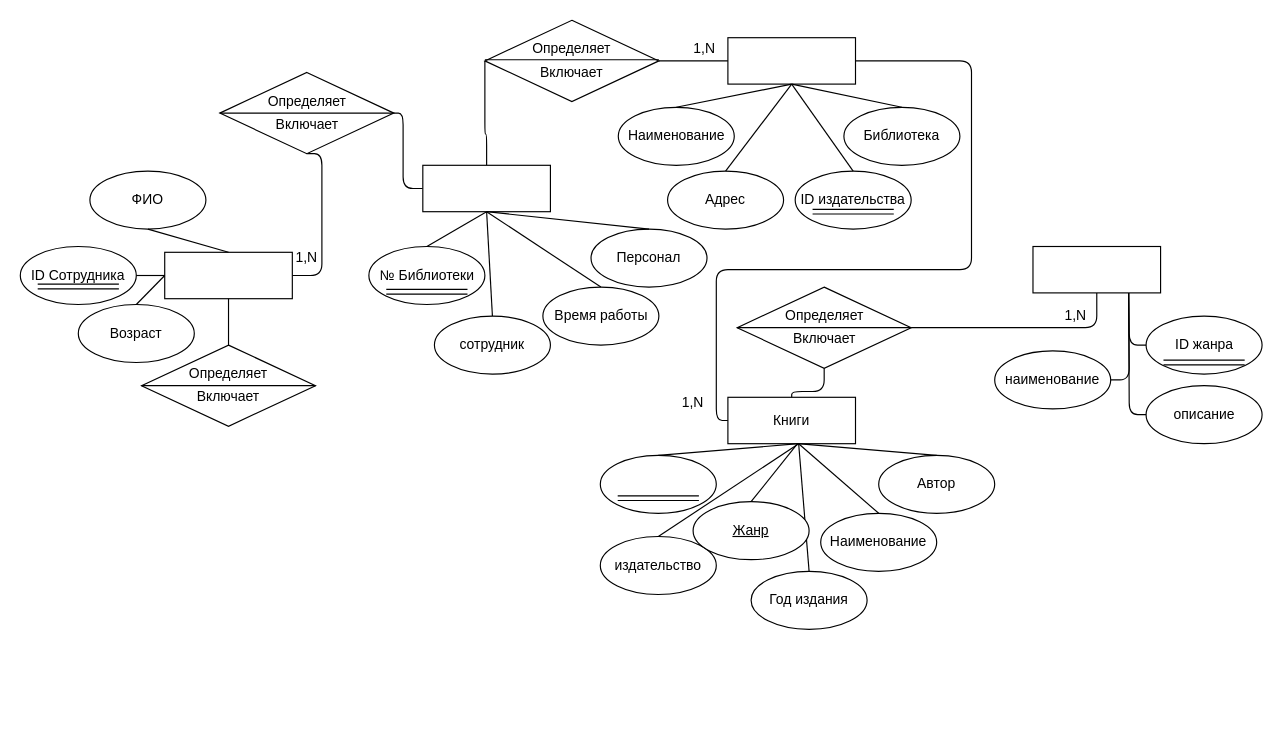
The diagram is 1283 pixels wide and 731 high, and some of its shapes have lost their labels. The centre of each missing label's shape, as x and y in pixels:
"ID Книги" goes at point 657,483.
"Библиотеки" goes at point 486,188.
"Жанры" goes at point 1096,269.
"Издательства" goes at point 791,60.
"Сотрудники" goes at point 228,275.
